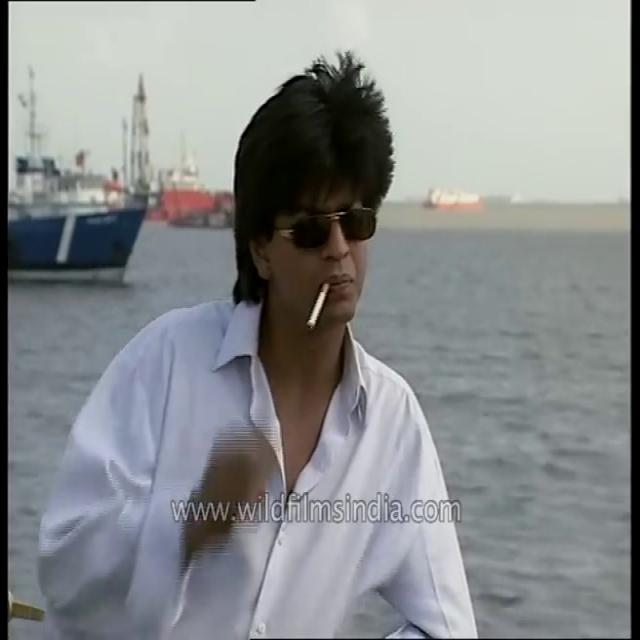Smooking: (298, 280, 336, 340)
